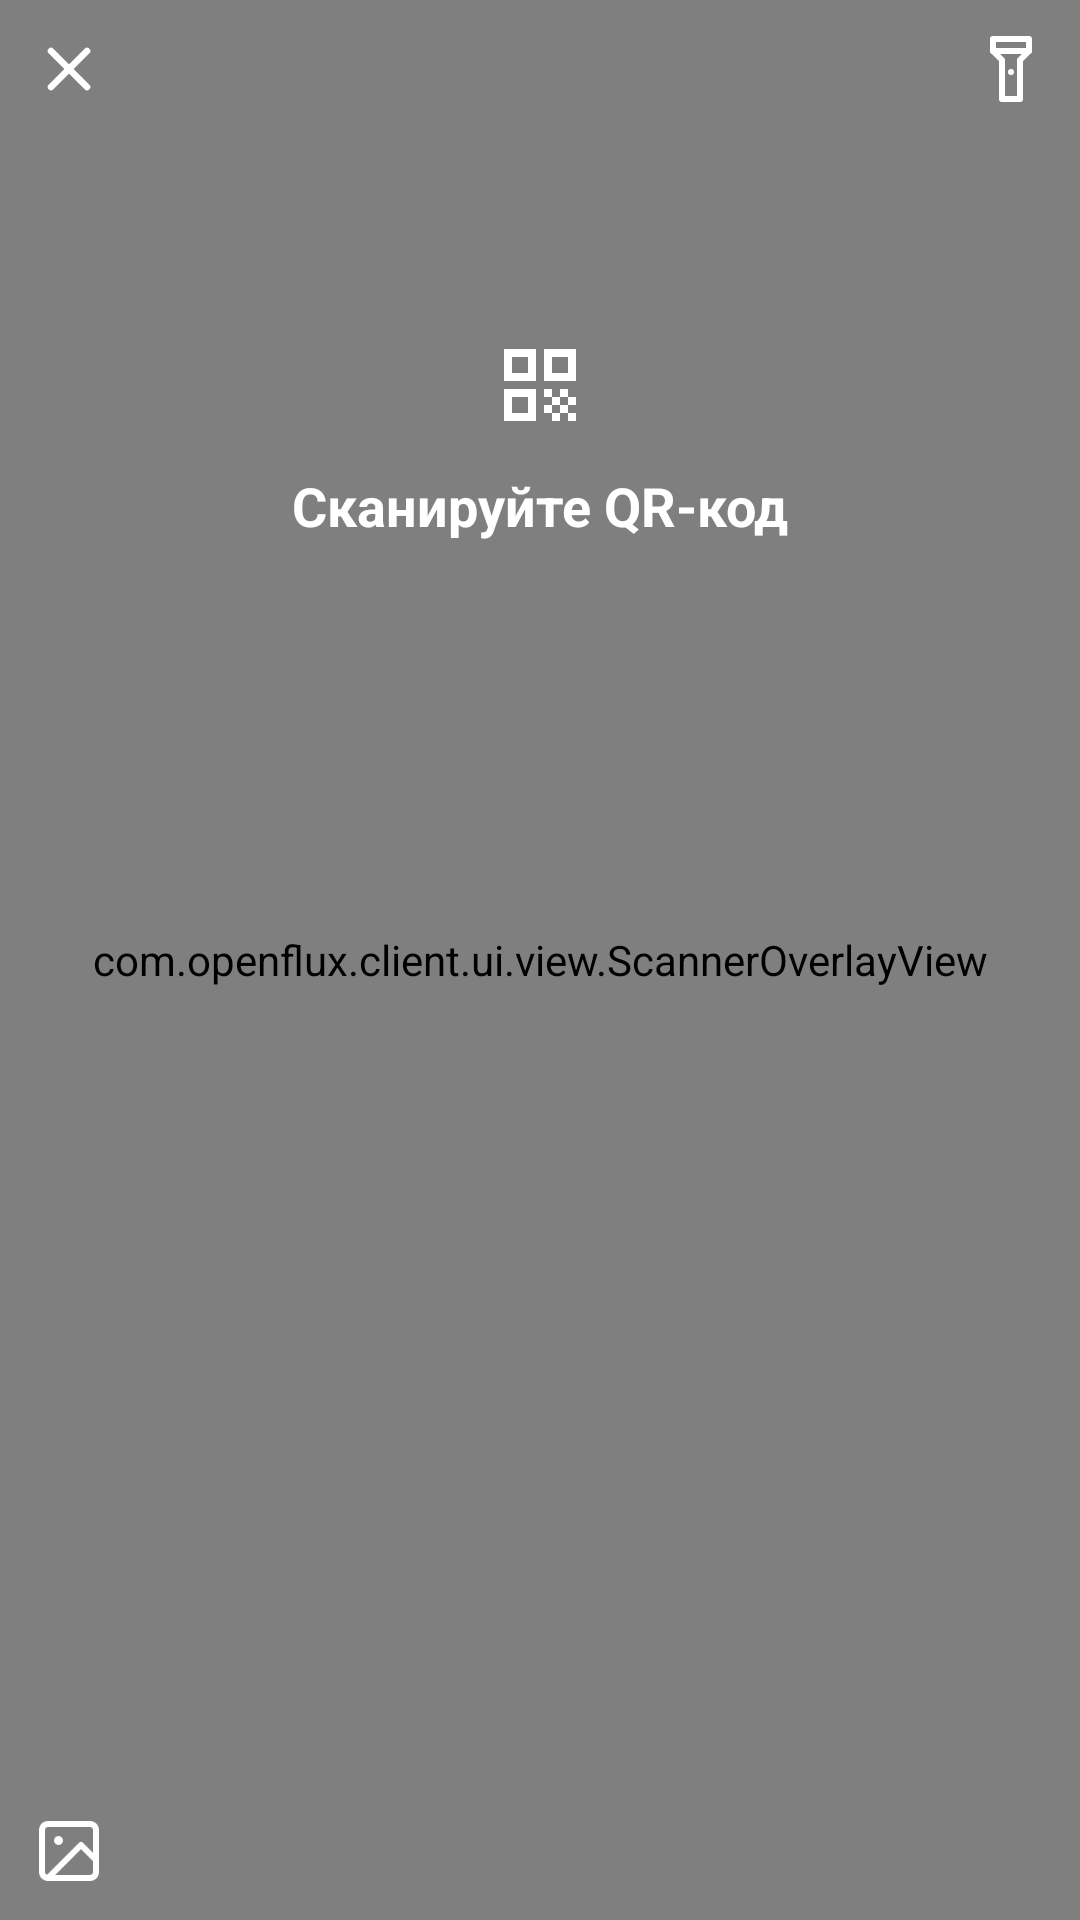

Screen size 1080 × 1920. Icon name, then its box in pixels as bbox(x1, y1, x2, y2):
Выбрать из галереи: bbox(39, 1821, 99, 1881)
Закрыть: bbox(47, 47, 91, 91)
Фонарик: bbox(990, 36, 1032, 102)
